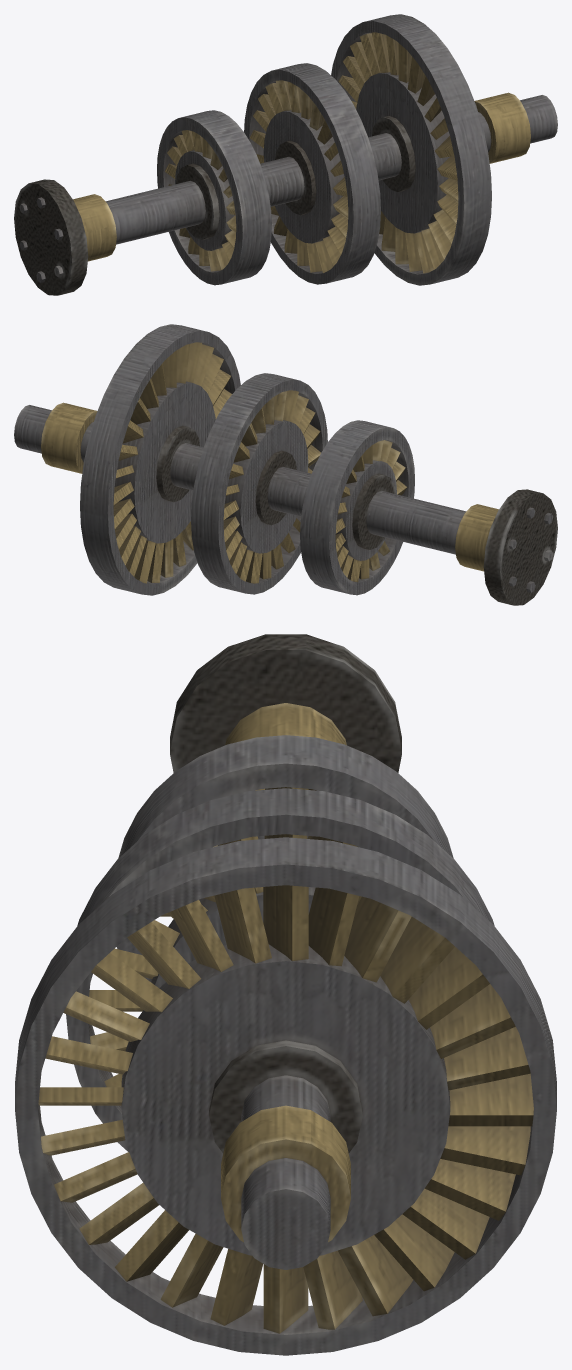
Rendered from feTurbineRotor_HD.fbx.
3 renders of one model, top to bottom at view 1: azimuth 30°, elevation 25°; view 2: azimuth 150°, elevation 25°; view 3: azimuth 270°, elevation 25°, orthographic. The views are drawn at different scales.
Parts seen in each view (by area): view 1: feTurbineRotor_Base; view 2: feTurbineRotor_Base; view 3: feTurbineRotor_Base.
Boxes of the visible parts, left/top/right/bottom form: feTurbineRotor_Base: left=14, top=14, right=557, bottom=295; feTurbineRotor_Base: left=14, top=324, right=557, bottom=605; feTurbineRotor_Base: left=15, top=634, right=556, bottom=1355.
Size of the model in its own units: 0.9326 by 0.4312 by 0.4312.
Materials: 1 (1 with a texture image).
